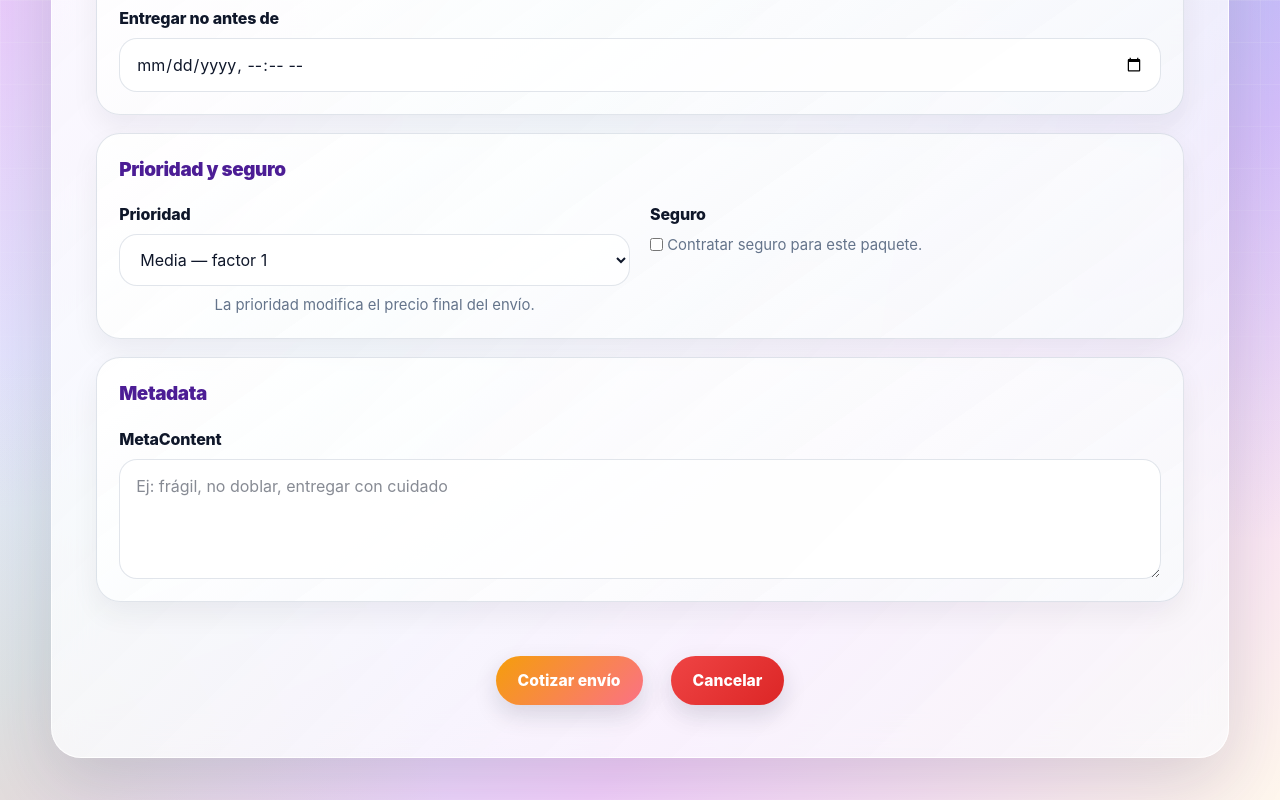
Scenario: CreateShipmentPage › muestra error si se intenta cotizar sin ciudad destino
The width and height of the screenshot is (1280, 800).
(page scrolled)
Click the button "Cotizar envío". click: (569, 680)
box: top-left (496, 656), bottom-right (643, 705)
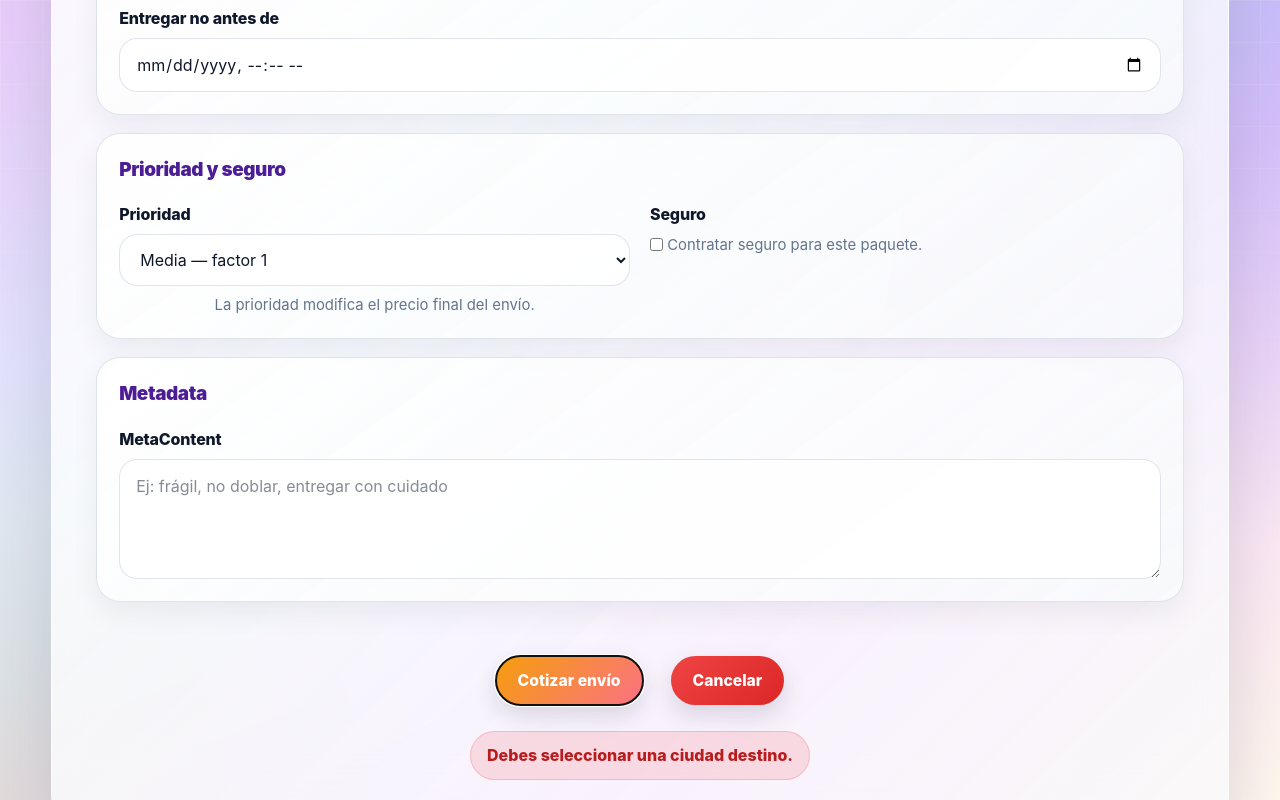
Now the text "Debes seleccionar una ciudad destino." is shown, box top-left (470, 731), bottom-right (810, 780)
